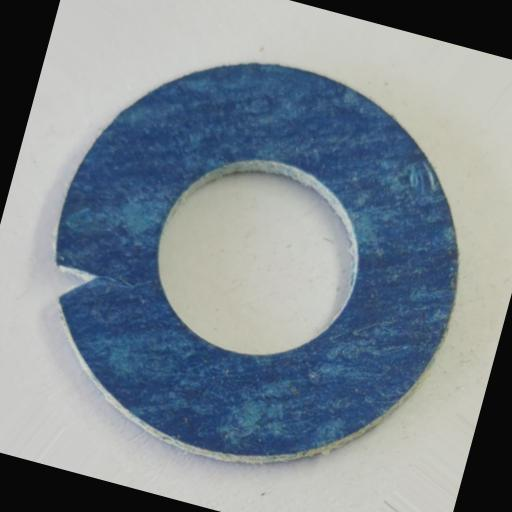defect: (44, 259, 103, 311)
